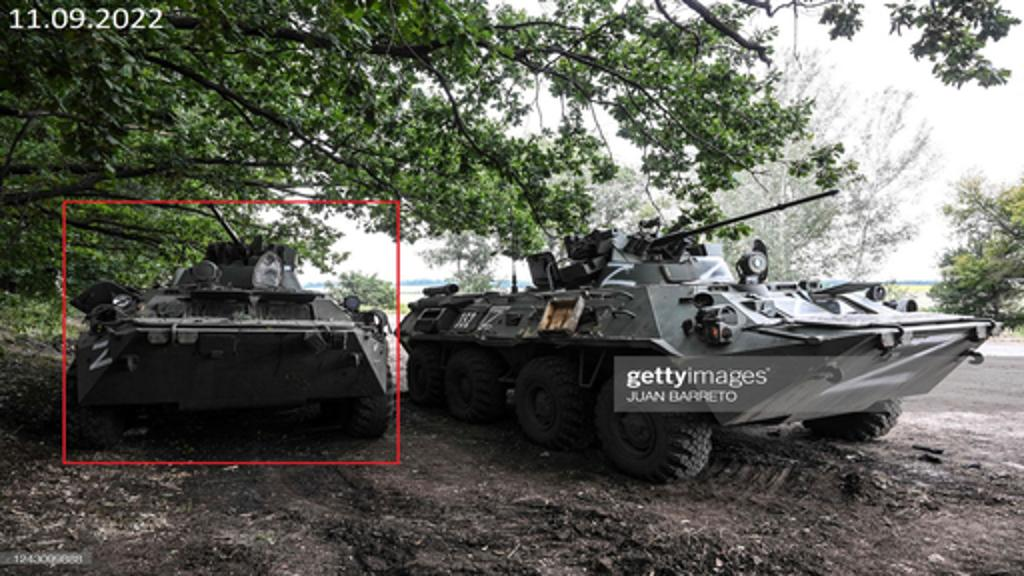APC-IFV: (394, 186, 994, 490), (62, 200, 394, 460)
